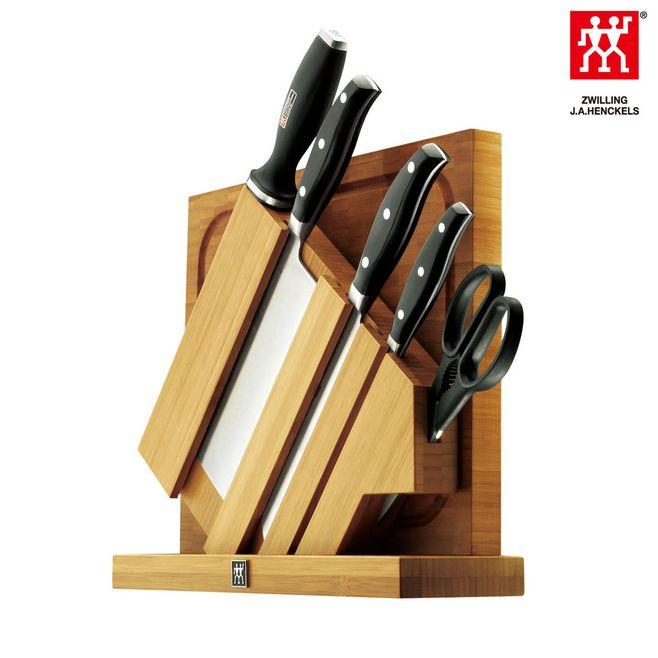knife: (166, 13, 349, 551)
